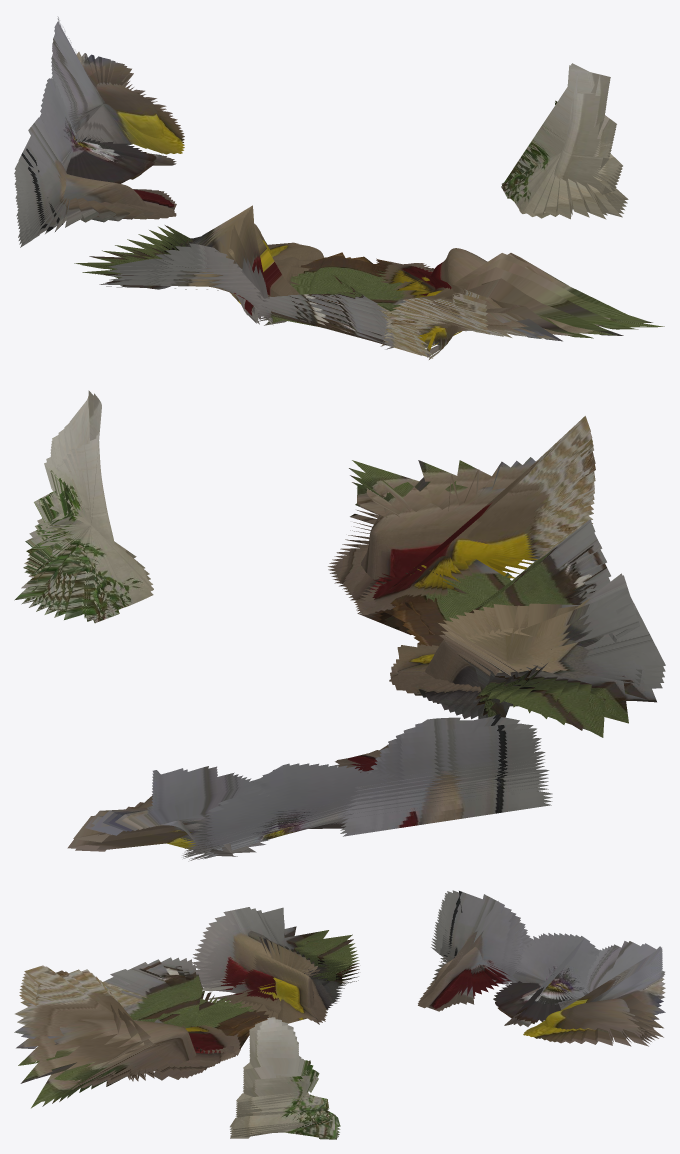
Rendered from comfy_cafe.glb.
3 views of the same model, one above another, from view 1: azimuth 30°, elevation 25°; view 2: azimuth 150°, elevation 25°; view 3: azimuth 270°, elevation 25° (orthographic). The views are drawn at different scales.
Parts seen in each view (by area): view 1: furniture_02, furniture_00, furniture_04, furniture_01, furniture_06, furniture_03, furniture_05; view 2: furniture_02, furniture_00, furniture_03, furniture_04, furniture_01, furniture_05, furniture_06; view 3: furniture_02, furniture_00, furniture_06, furniture_03, furniture_04, furniture_01, furniture_05.
Boxes of the visible parts, left/top/right/bottom form: furniture_02: left=372, top=248, right=664, bottom=359; furniture_00: left=74, top=205, right=324, bottom=325; furniture_04: left=501, top=63, right=628, bottom=219; furniture_01: left=254, top=252, right=433, bottom=358; furniture_06: left=51, top=16, right=184, bottom=154; furniture_03: left=14, top=116, right=176, bottom=247; furniture_05: left=40, top=77, right=176, bottom=183; furniture_02: left=328, top=416, right=595, bottom=614; furniture_00: left=389, top=573, right=665, bottom=737; furniture_03: left=335, top=714, right=552, bottom=836; furniture_04: left=14, top=390, right=153, bottom=623; furniture_01: left=356, top=519, right=610, bottom=646; furniture_05: left=182, top=763, right=397, bottom=861; furniture_06: left=67, top=766, right=279, bottom=856; furniture_02: left=14, top=965, right=240, bottom=1108; furniture_00: left=192, top=907, right=359, bottom=1024; furniture_06: left=523, top=941, right=665, bottom=1046; furniture_03: left=418, top=890, right=534, bottom=1011; furniture_04: left=230, top=1017, right=340, bottom=1139; furniture_01: left=102, top=957, right=270, bottom=1055; furniture_05: left=493, top=933, right=600, bottom=1026.
Bounding box in the file's own units: 5.19 × 1.42 × 7.26.
Materials: 7 (7 with a texture image).
